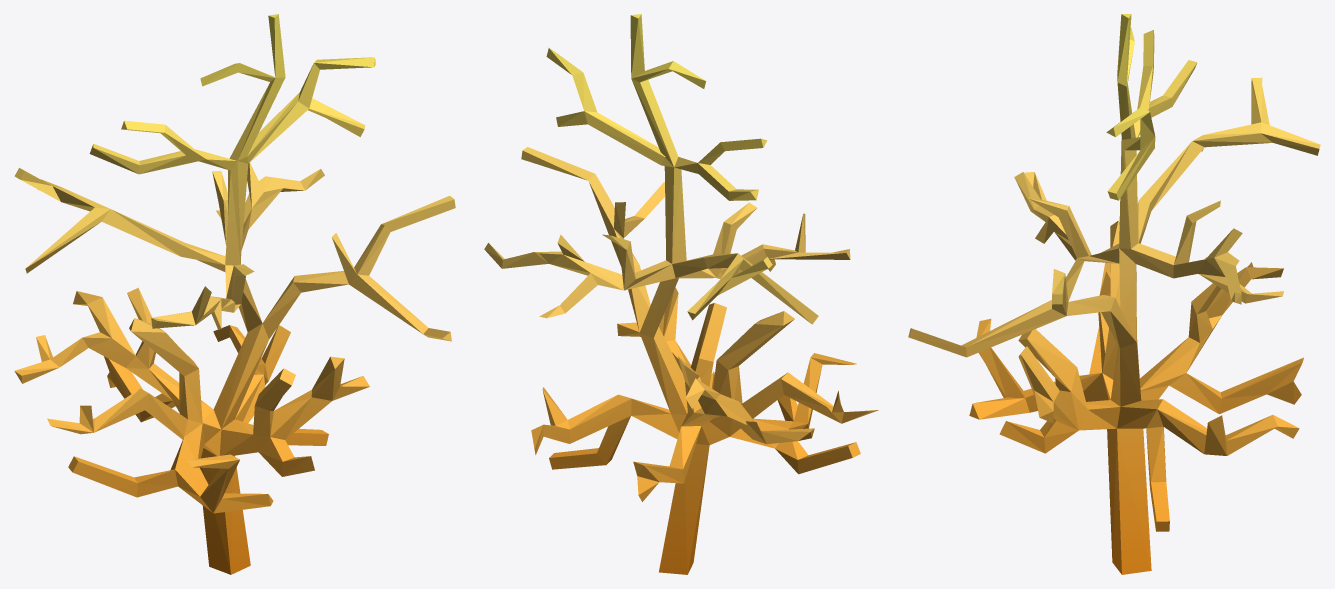
The model's file is SM_Coral_9.fbx.
3 views of the same model, side by side, from view 1: azimuth 30°, elevation 25°; view 2: azimuth 150°, elevation 25°; view 3: azimuth 270°, elevation 25° (orthographic). The views are drawn at different scales.
Visible parts, largest first — view 1: Coral_9; view 2: Coral_9; view 3: Coral_9.
Boxes of the visible parts, x1,y1,x2,y2 form: Coral_9: [14, 14, 455, 574]; Coral_9: [484, 14, 878, 574]; Coral_9: [908, 14, 1320, 574].
Bounding box in the file's own units: 110 × 150 × 97.68.
